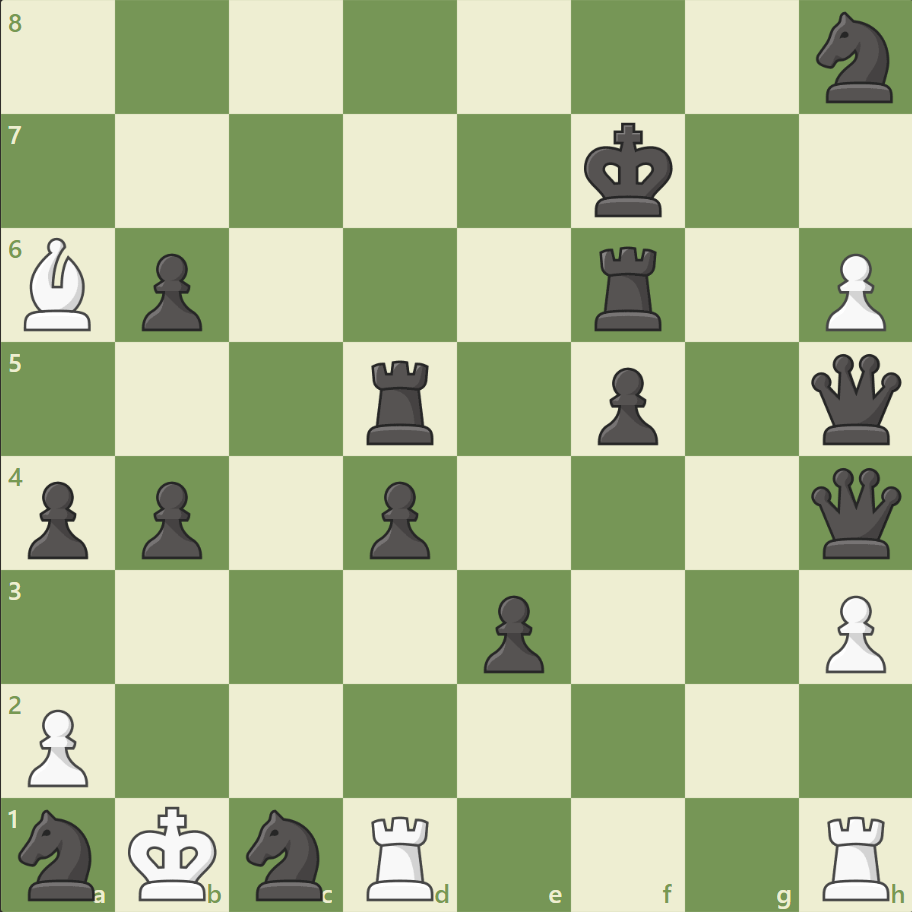B: (17, 233, 101, 336)
K: (124, 798, 224, 906)
P: (20, 700, 95, 791), (815, 246, 889, 337), (815, 586, 889, 677)
R: (814, 806, 897, 904), (360, 806, 442, 904)
k: (579, 117, 679, 225)
n: (806, 7, 903, 110), (11, 802, 108, 904), (238, 802, 335, 904)
p: (133, 246, 208, 337), (20, 473, 95, 564), (133, 473, 208, 564), (474, 586, 549, 677), (588, 359, 662, 450), (361, 473, 435, 564)
q: (805, 349, 904, 449), (805, 463, 904, 562)
r: (587, 239, 670, 336), (360, 352, 442, 449)
